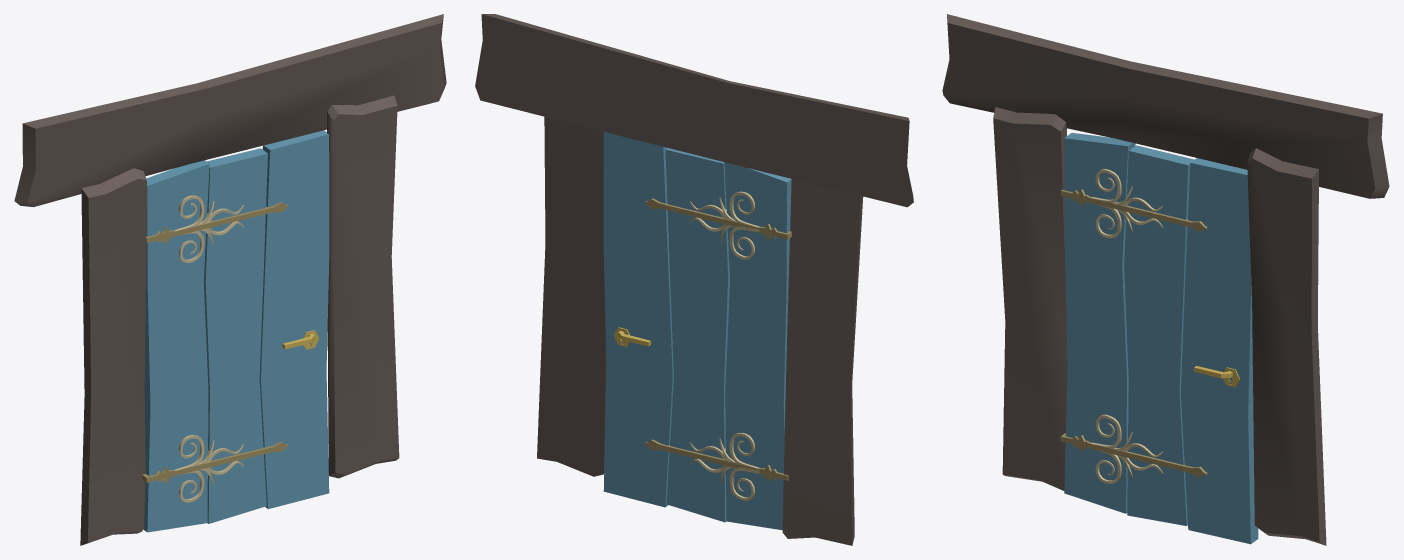
Rendered from ACT3_FancyDoor.fbx.
The picture shows the model from 3 angles, left to right: view 1: azimuth 30°, elevation 25°; view 2: azimuth 150°, elevation 25°; view 3: azimuth 330°, elevation 25°; orthographic projection. The views are drawn at different scales.
Visible parts, largest first — view 1: DoorBase, Flank_Long93, Flank_Long94, Flank_Long95, Ornament_Snakes_T, Ornament_Snakes_F, Ornament_Base_F, Ornament_Base_T; view 2: DoorBase, Flank_Long93, Flank_Long95, Flank_Long94, Ornament_Snakes_T, Ornament_Snakes_F, Ornament_Base_T, Ornament_Base_F; view 3: DoorBase, Flank_Long93, Flank_Long94, Flank_Long95, Ornament_Snakes_T, Ornament_Snakes_F, Ornament_Base_F, Ornament_Base_T.
Boxes of the visible parts, x1,y1,x2,y2 form: DoorBase: (143, 130, 329, 532); Flank_Long93: (14, 14, 446, 207); Flank_Long94: (327, 95, 399, 478); Flank_Long95: (80, 168, 146, 545); Ornament_Snakes_T: (174, 195, 243, 262); Ornament_Snakes_F: (174, 435, 243, 502); Ornament_Base_F: (142, 441, 288, 483); Ornament_Base_T: (145, 202, 288, 243); DoorBase: (603, 132, 791, 530); Flank_Long93: (475, 14, 913, 207); Flank_Long95: (782, 179, 863, 545); Flank_Long94: (537, 116, 606, 476); Ornament_Snakes_T: (689, 191, 759, 259); Ornament_Snakes_F: (689, 433, 759, 500); Ornament_Base_T: (645, 198, 791, 239); Ornament_Base_F: (645, 439, 788, 481); DoorBase: (1064, 132, 1258, 544); Flank_Long93: (942, 14, 1389, 198); Flank_Long94: (1247, 148, 1326, 545); Flank_Long95: (993, 107, 1067, 490); Ornament_Snakes_T: (1091, 169, 1163, 238); Ornament_Snakes_F: (1091, 414, 1163, 483); Ornament_Base_F: (1060, 433, 1207, 477); Ornament_Base_T: (1060, 189, 1207, 231).
Size of the model in its own units: 5.05 by 4.95 by 0.3702.
